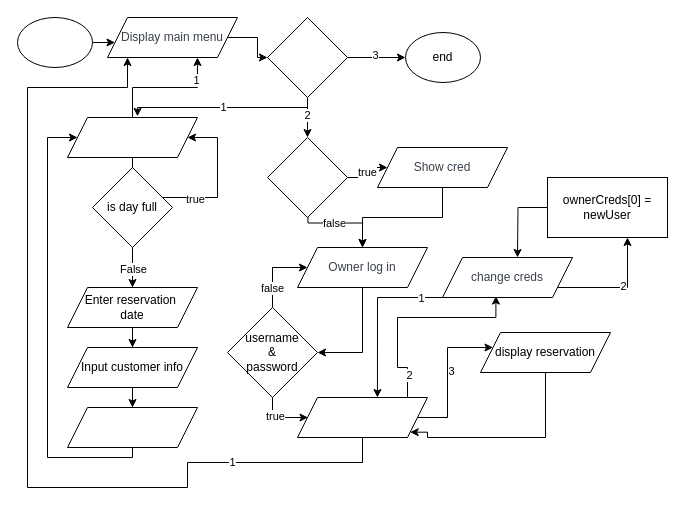
Some shapes in this 685 by 513 pixel diagram are drawn without their labels. Here are the shapes that lost their labels. From the top down, the centre of each, then its label:
At (x=54, y=42): "start".
At (x=307, y=57): "user choice".
At (x=132, y=137): "Customer menu".
At (x=307, y=177): "first login".
At (x=132, y=427): "Select vehicle type".
At (x=362, y=417): "Owner menu".
